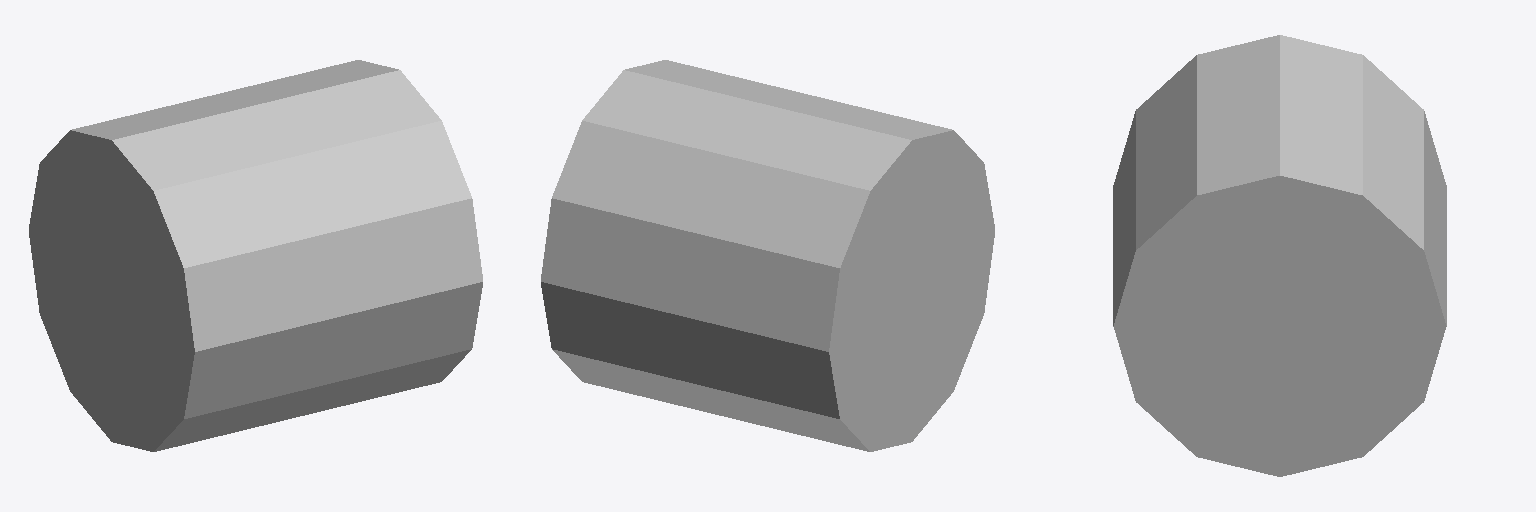
File: Keypad Light.obj
3 renders of one model, left to right at view 1: azimuth 30°, elevation 25°; view 2: azimuth 150°, elevation 25°; view 3: azimuth 270°, elevation 25°, orthographic.
Parts seen in each view (by area): view 1: Cube.002; view 2: Cube.002; view 3: Cube.002.
Part boxes in pixels (x1,y1,x2,y2): Cube.002: (29,60,482,451); Cube.002: (541,60,994,451); Cube.002: (1113,35,1446,476).
Bounding box in the file's own units: 0.2842 × 0.2842 × 0.2842.